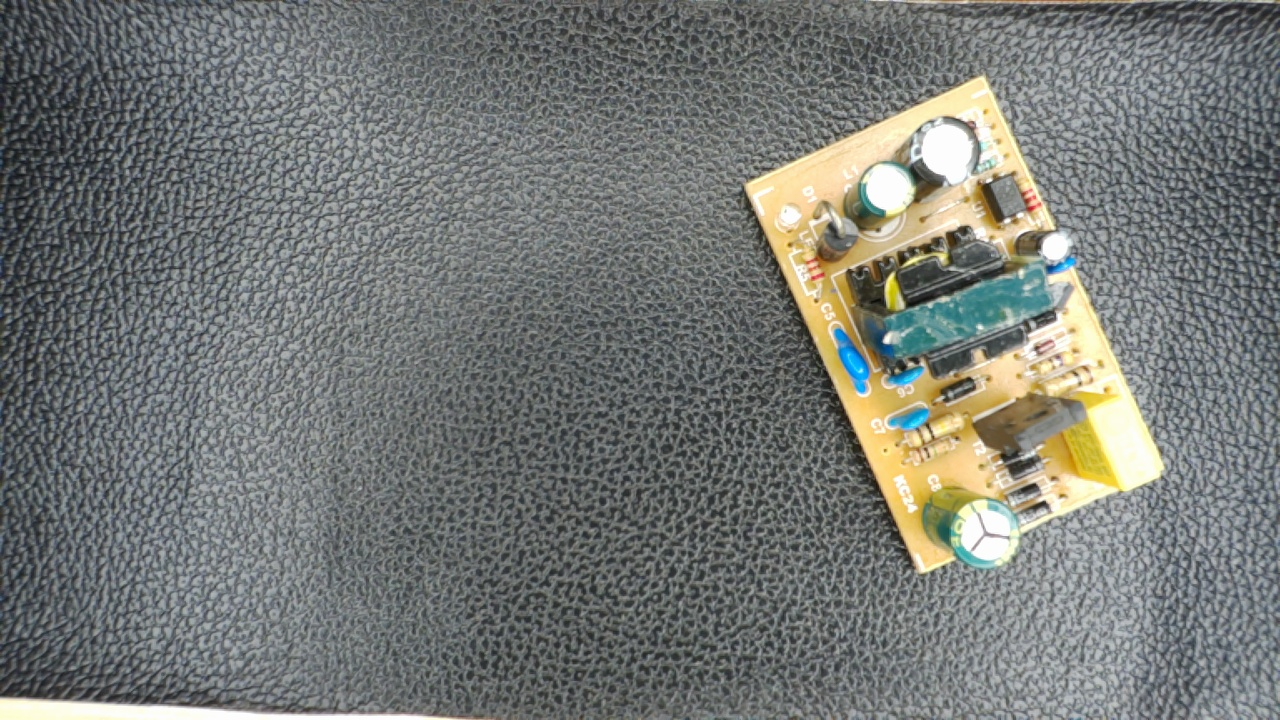hv_capacitor: (918, 483, 1022, 570)
mov: (827, 326, 875, 395)
optocoupler: (978, 167, 1035, 227)
